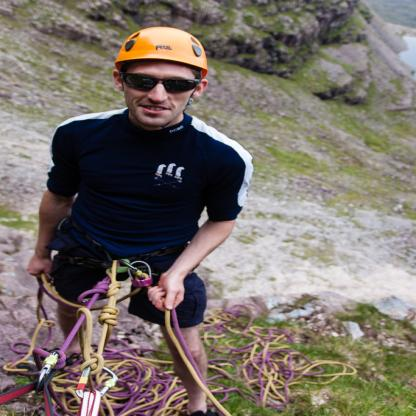Helmet: (107, 26, 207, 115)
